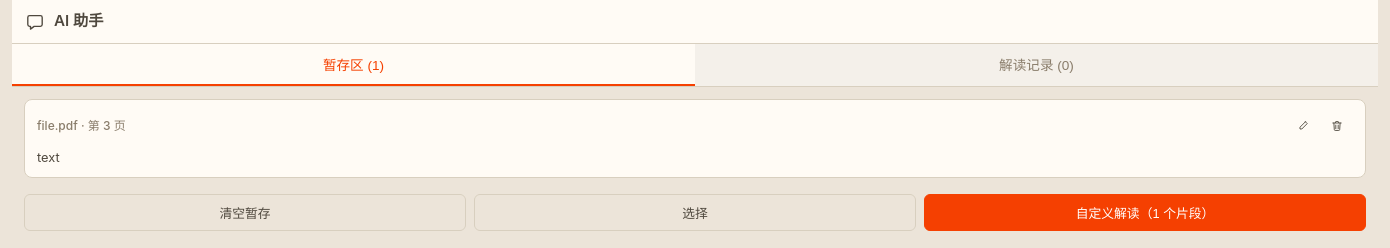
Scenario: AiChatPanel › toggles stash selection via checkbox
The width and height of the screenshot is (1390, 248).
Click the button "选择": [695, 212] box [474, 194, 916, 231]
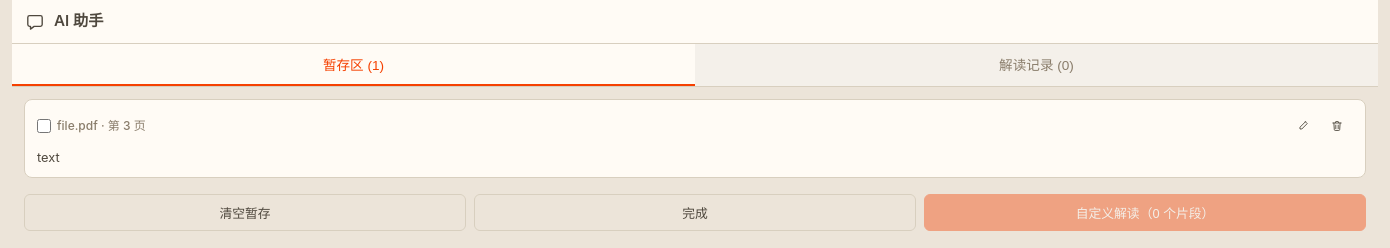
Expected: the checkbox named "选择该片段" is not checked
Click the checkbox named "选择该片段": [44, 126] box [37, 119, 51, 133]
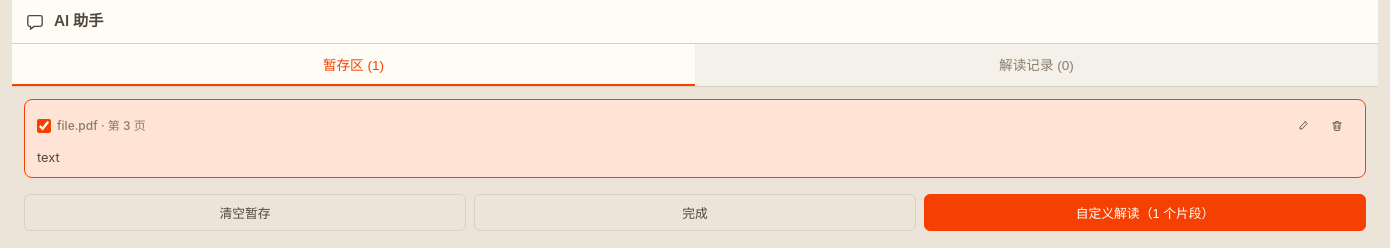
Expected: the checkbox named "选择该片段" is checked
Expected: the button "自定义解读（1 个片段）" is enabled, [924, 194, 1366, 231]
Click the checkbox named "选择该片段": [44, 126] box [37, 119, 51, 133]
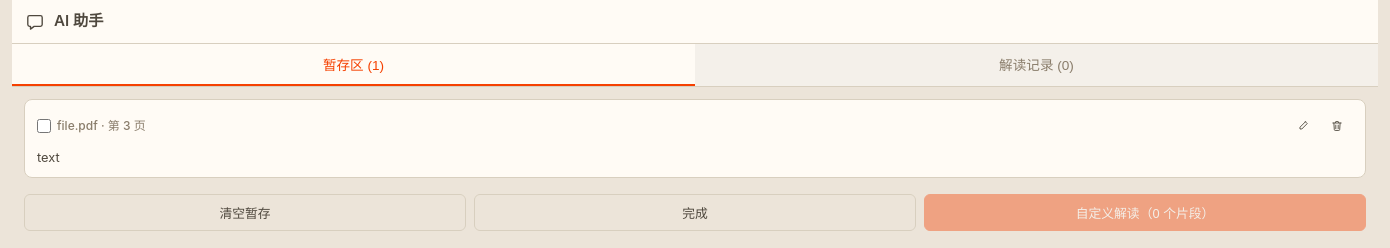
Expected: the checkbox named "选择该片段" is not checked, [37, 119, 51, 133]
Expected: the button "自定义解读（0 个片段）" is disabled, [924, 194, 1366, 231]
